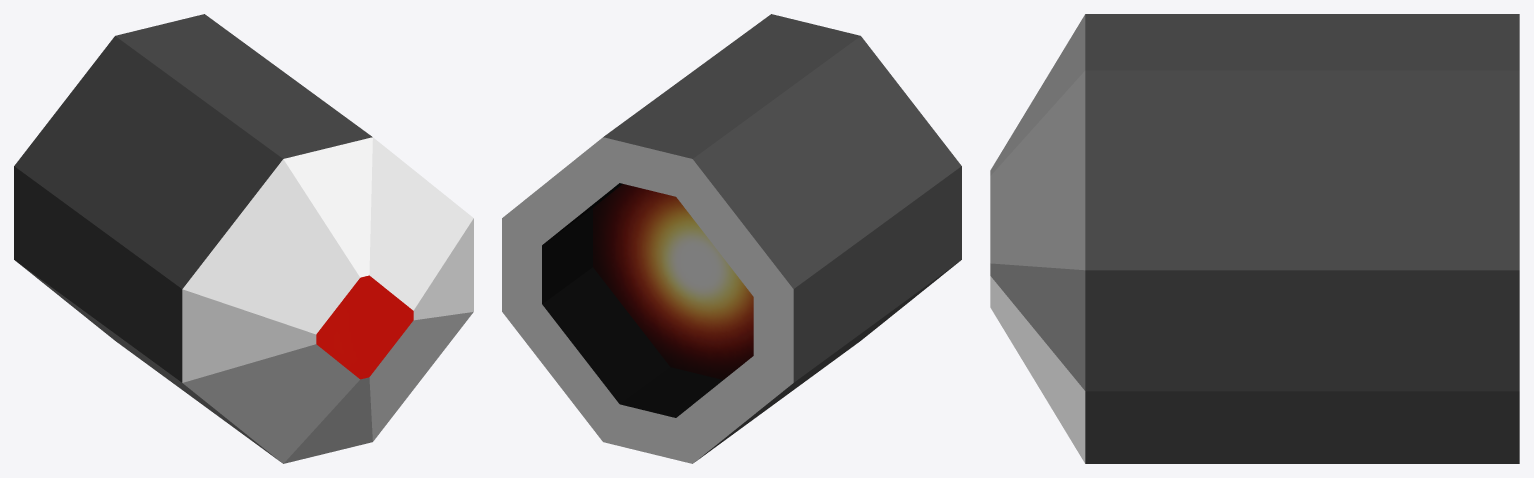
File: levitate.fbx
3 views of the same model, side by side, from view 1: azimuth 30°, elevation 25°; view 2: azimuth 150°, elevation 25°; view 3: azimuth 270°, elevation 25° (orthographic). The views are drawn at different scales.
Parts seen in each view (by area): view 1: levitate; view 2: levitate; view 3: levitate.
Part boxes in pixels (left/top/right/bottom): levitate: left=14, top=14, right=473, bottom=463; levitate: left=502, top=14, right=961, bottom=463; levitate: left=990, top=14, right=1519, bottom=463.
Bounding box in the file's own units: 113 × 113 × 138.
